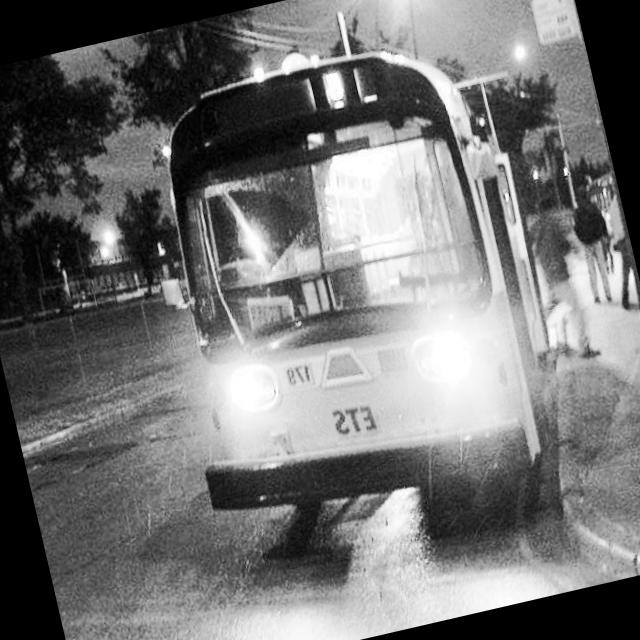Bus: (110, 1, 604, 562)
